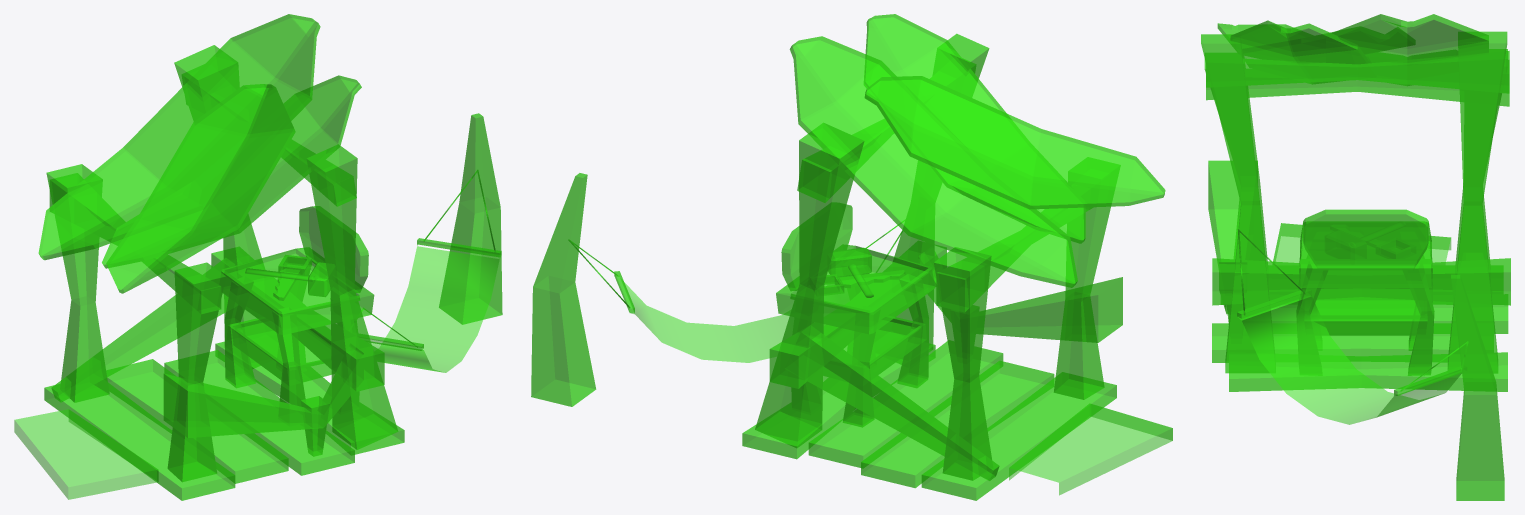
The model's file is Builder_house_possible_to_place.fbx.
3 views of the same model, side by side, from view 1: azimuth 30°, elevation 25°; view 2: azimuth 150°, elevation 25°; view 3: azimuth 270°, elevation 25° (orthographic). The views are drawn at different scales.
Parts seen in each view (by area): view 1: Cube; view 2: Cube; view 3: Cube.
Boxes of the visible parts, <box> form: Cube: <box>14,14,502,500</box>; Cube: <box>531,14,1172,500</box>; Cube: <box>1201,14,1510,500</box>.
Bounding box in the file's own units: 6 × 3 × 4.
